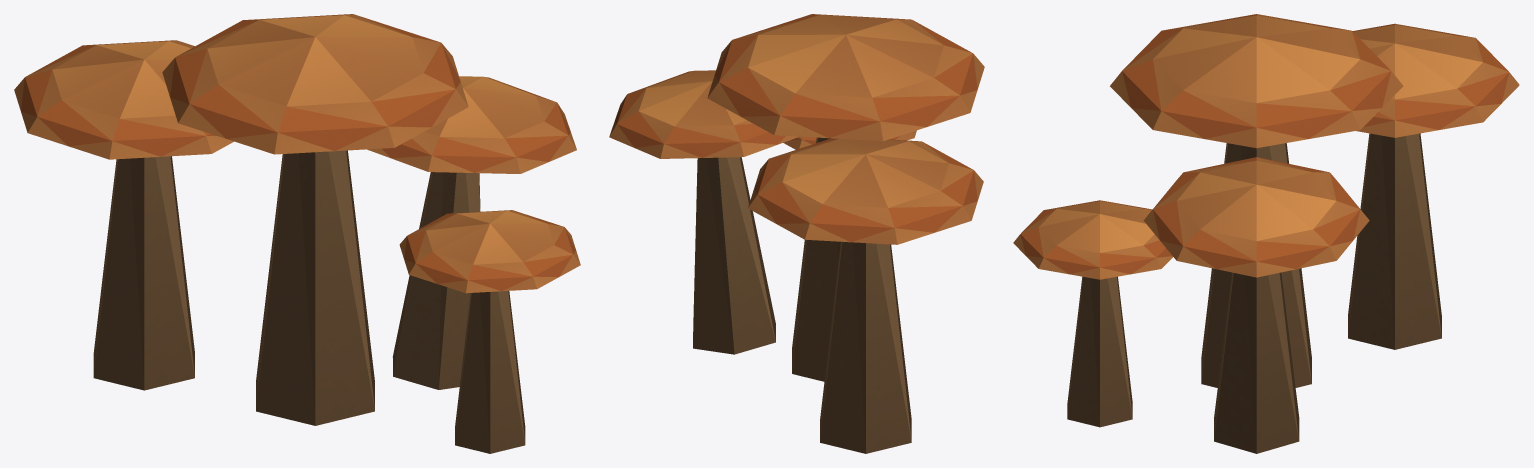
Rendered from Mushroom_Gr_1D.fbx.
The picture shows the model from 3 angles, left to right: view 1: azimuth 30°, elevation 25°; view 2: azimuth 150°, elevation 25°; view 3: azimuth 270°, elevation 25°; orthographic projection. The views are drawn at different scales.
Visible parts, largest first — view 1: polySurface701; view 2: polySurface701; view 3: polySurface701.
Part boxes in pixels (x1=…): polySurface701: x1=14, y1=14, x2=580, y2=453; polySurface701: x1=609, y1=14, x2=984, y2=453; polySurface701: x1=1013, y1=14, x2=1519, y2=453.
Bounding box in the file's own units: 294 × 223 × 301.
1 material, 1 textured.
